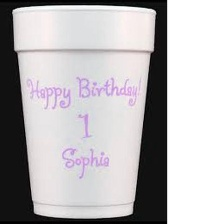paper_cup: (8, 1, 159, 223)
